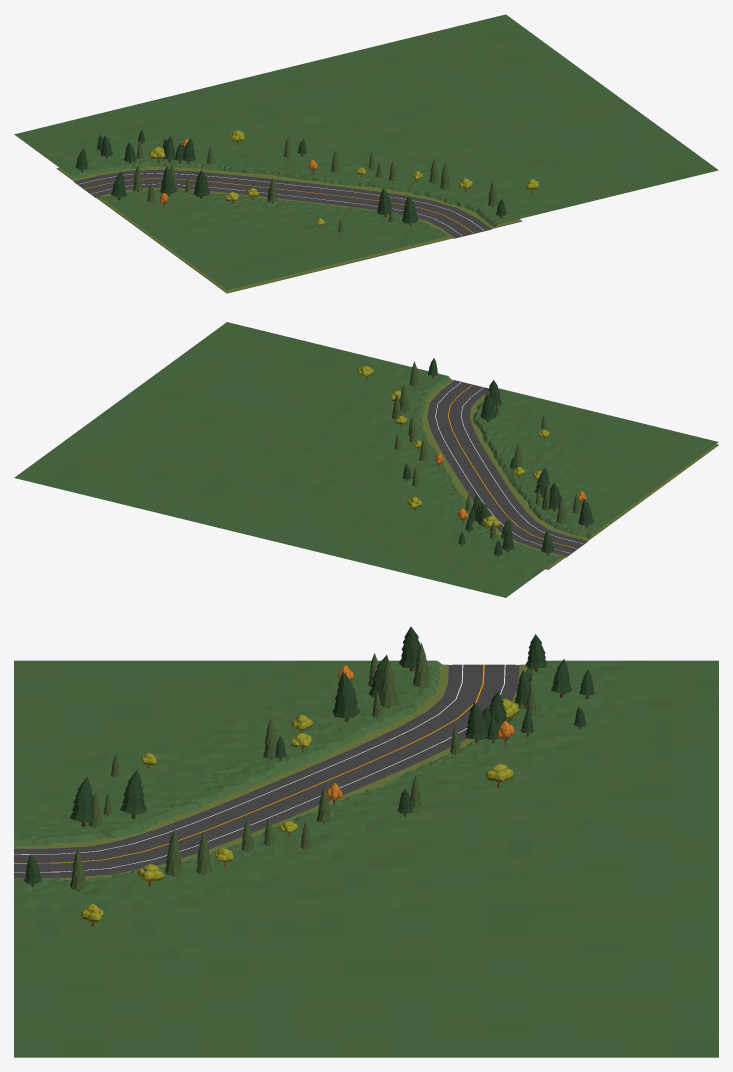
Rendered from ForestRoadRight4.fbx.
The picture shows the model from 3 angles, top to bottom: view 1: azimuth 30°, elevation 25°; view 2: azimuth 150°, elevation 25°; view 3: azimuth 270°, elevation 25°; orthographic projection. The views are drawn at different scales.
Visible parts, largest first — view 1: FRR4Plane, FRR4Road; view 2: FRR4Plane, FRR4Road; view 3: FRR4Plane, FRR4Road, FRR4Plane|pineTree04|Dupli|26, FRR4Plane|pineTree04|Dupli|27, FRR4Plane|pineTree04|Dupli|11.
Part boxes in pixels (left/top/right/bottom): FRR4Plane: left=14, top=14, right=718, bottom=290; FRR4Road: left=56, top=166, right=522, bottom=293; FRR4Plane: left=14, top=322, right=718, bottom=597; FRR4Road: left=421, top=379, right=718, bottom=569; FRR4Plane: left=14, top=660, right=718, bottom=1057; FRR4Road: left=14, top=664, right=527, bottom=880; FRR4Plane|pineTree04|Dupli|26: left=333, top=671, right=360, bottom=721; FRR4Plane|pineTree04|Dupli|27: left=120, top=770, right=146, bottom=818; FRR4Plane|pineTree04|Dupli|11: left=69, top=777, right=93, bottom=826.
Size of what is drawn, in the model's own units: 40000 by 2606 by 30000.
